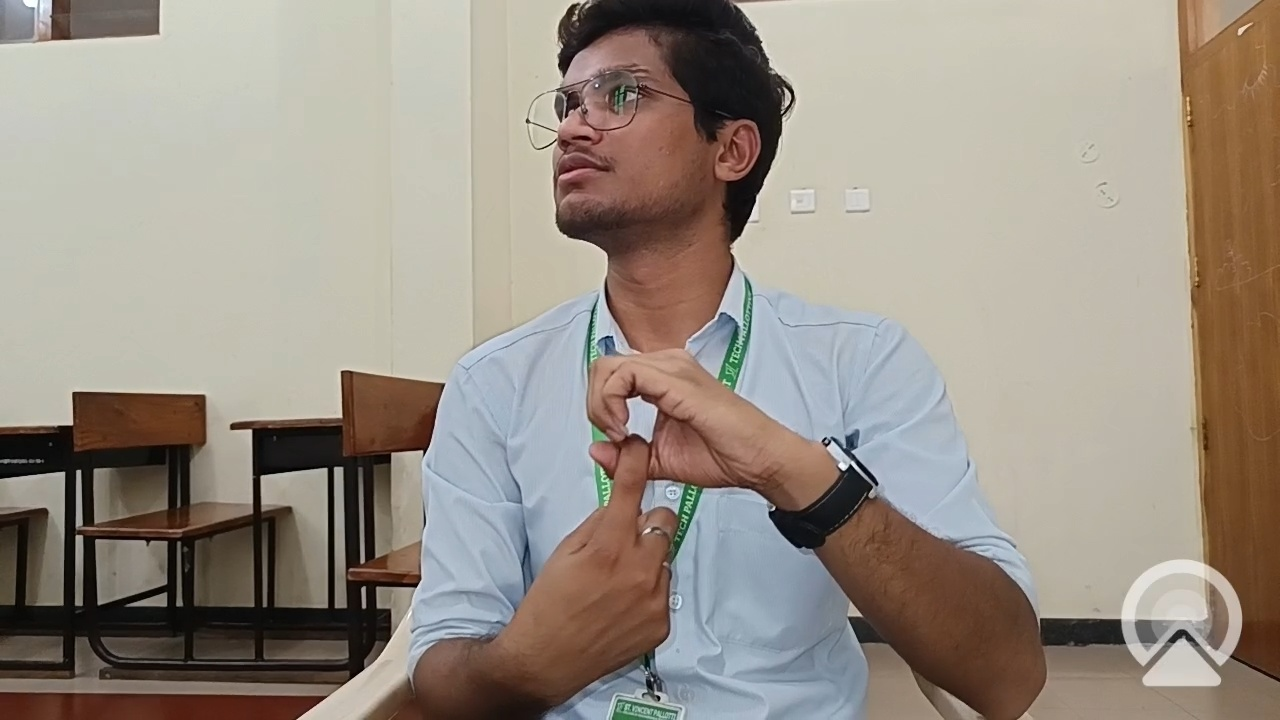Q: (480, 326, 847, 693)
